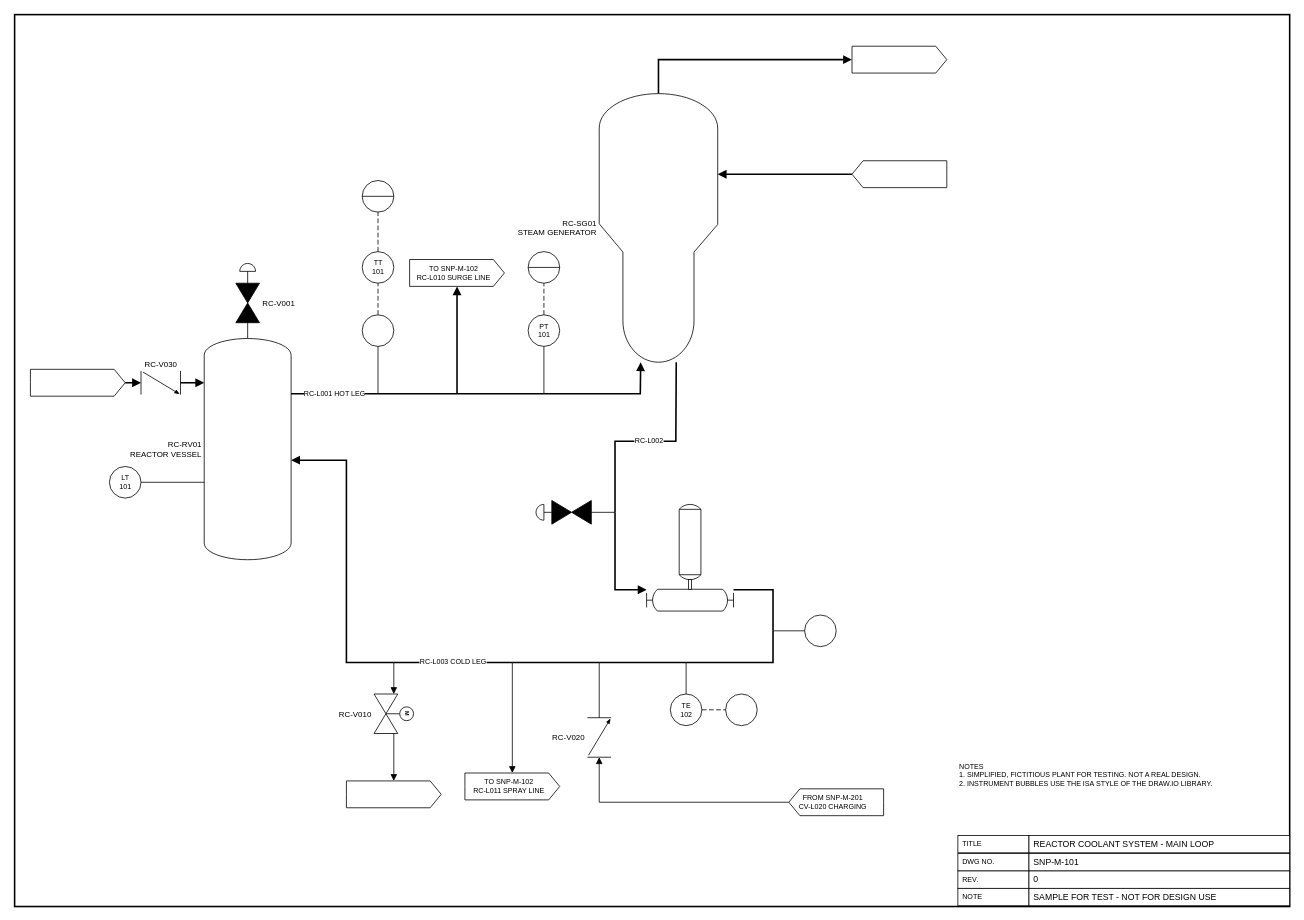
This 1304x920 diagram has some shape labels left out. Each missing label, with the centre of its shape:
FROM SNP-M-301 SI-L005 SAFETY INJ.: point (77, 382)
FROM SNP-M-501 FW-L010 FEEDWATER: point (899, 174)
FT 101: point (820, 630)
PI 101: point (543, 267)
RC-PP01 REACTOR COOLANT PUMP: point (690, 557)
RC-V002: point (571, 512)
TE 101: point (377, 330)
TI 101: point (377, 196)
TO SNP-M-201 CV-L001 LETDOWN: point (393, 794)
TO SNP-M-501 MS-L001 MAIN STEAM: point (899, 59)
TT 102: point (741, 709)
